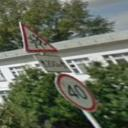speed_limit_40: (51, 74, 103, 113)
